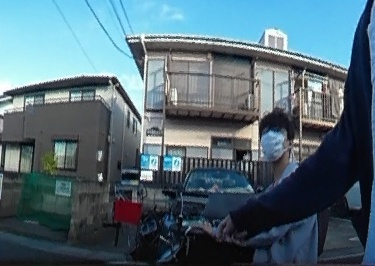person: (242, 109, 315, 266)
